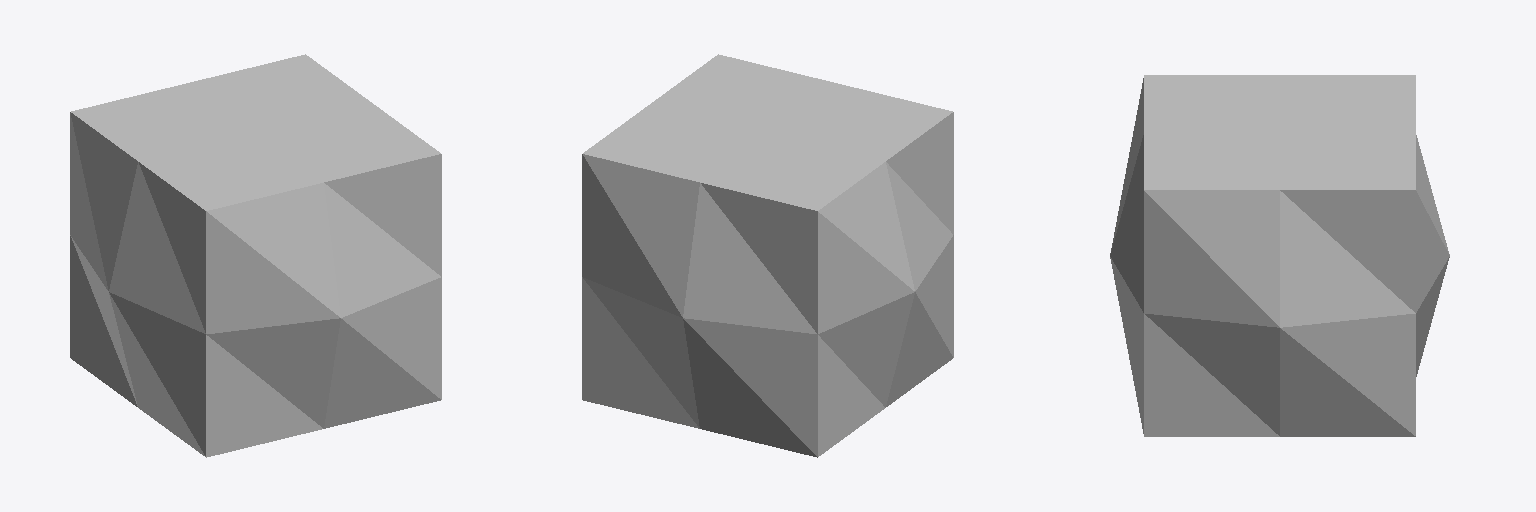
Rendered from Cave_wall.obj.
3 views of the same model, side by side, from view 1: azimuth 30°, elevation 25°; view 2: azimuth 150°, elevation 25°; view 3: azimuth 270°, elevation 25° (orthographic).
Parts seen in each view (by area): view 1: cuboid; view 2: cuboid; view 3: cuboid.
Part boxes in pixels (left/top/right/bottom): cuboid: left=70, top=54, right=441, bottom=457; cuboid: left=582, top=54, right=953, bottom=457; cuboid: left=1110, top=75, right=1449, bottom=436.
Size of the model in its own units: 1.25 by 1 by 1.25.